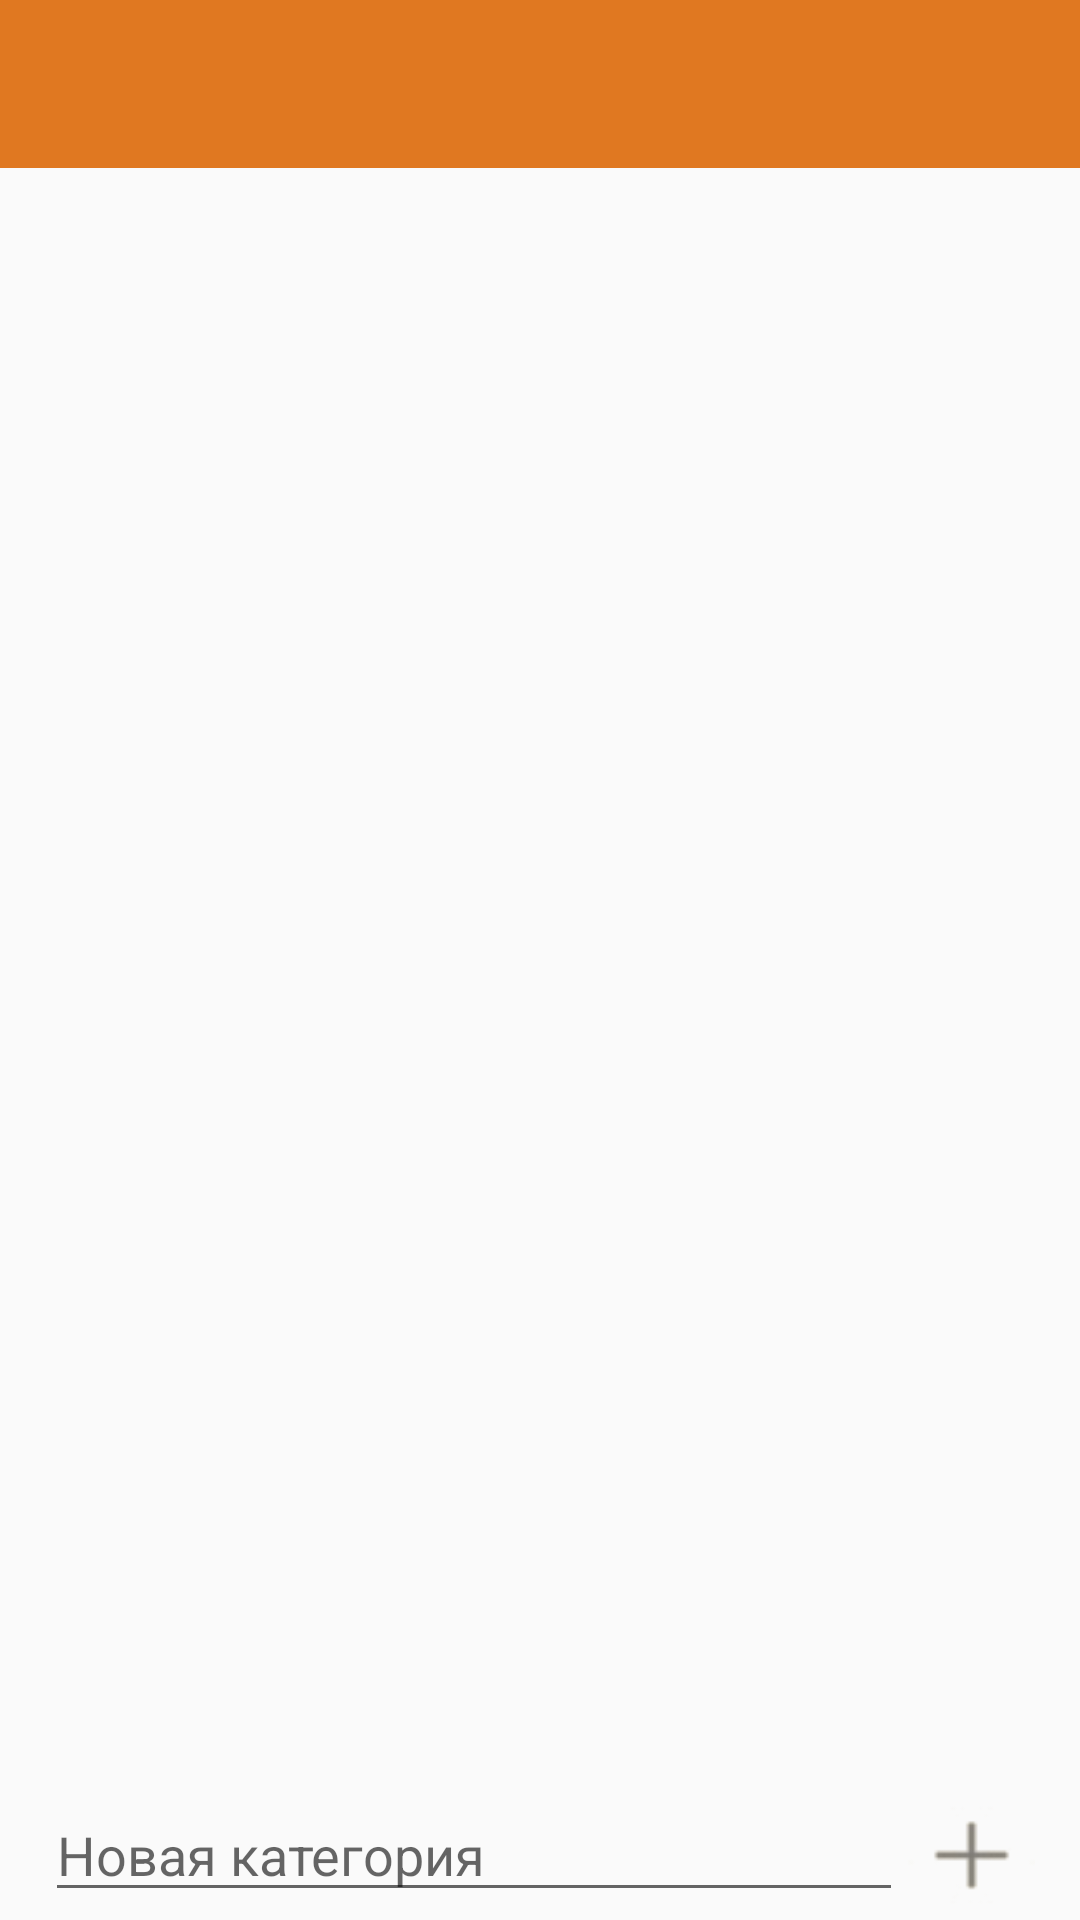

Named icons in this screenshot (1080×1920) and their bounding boxes, (x1, y1, x2, y2):
plus: (934, 1821, 1009, 1889)
